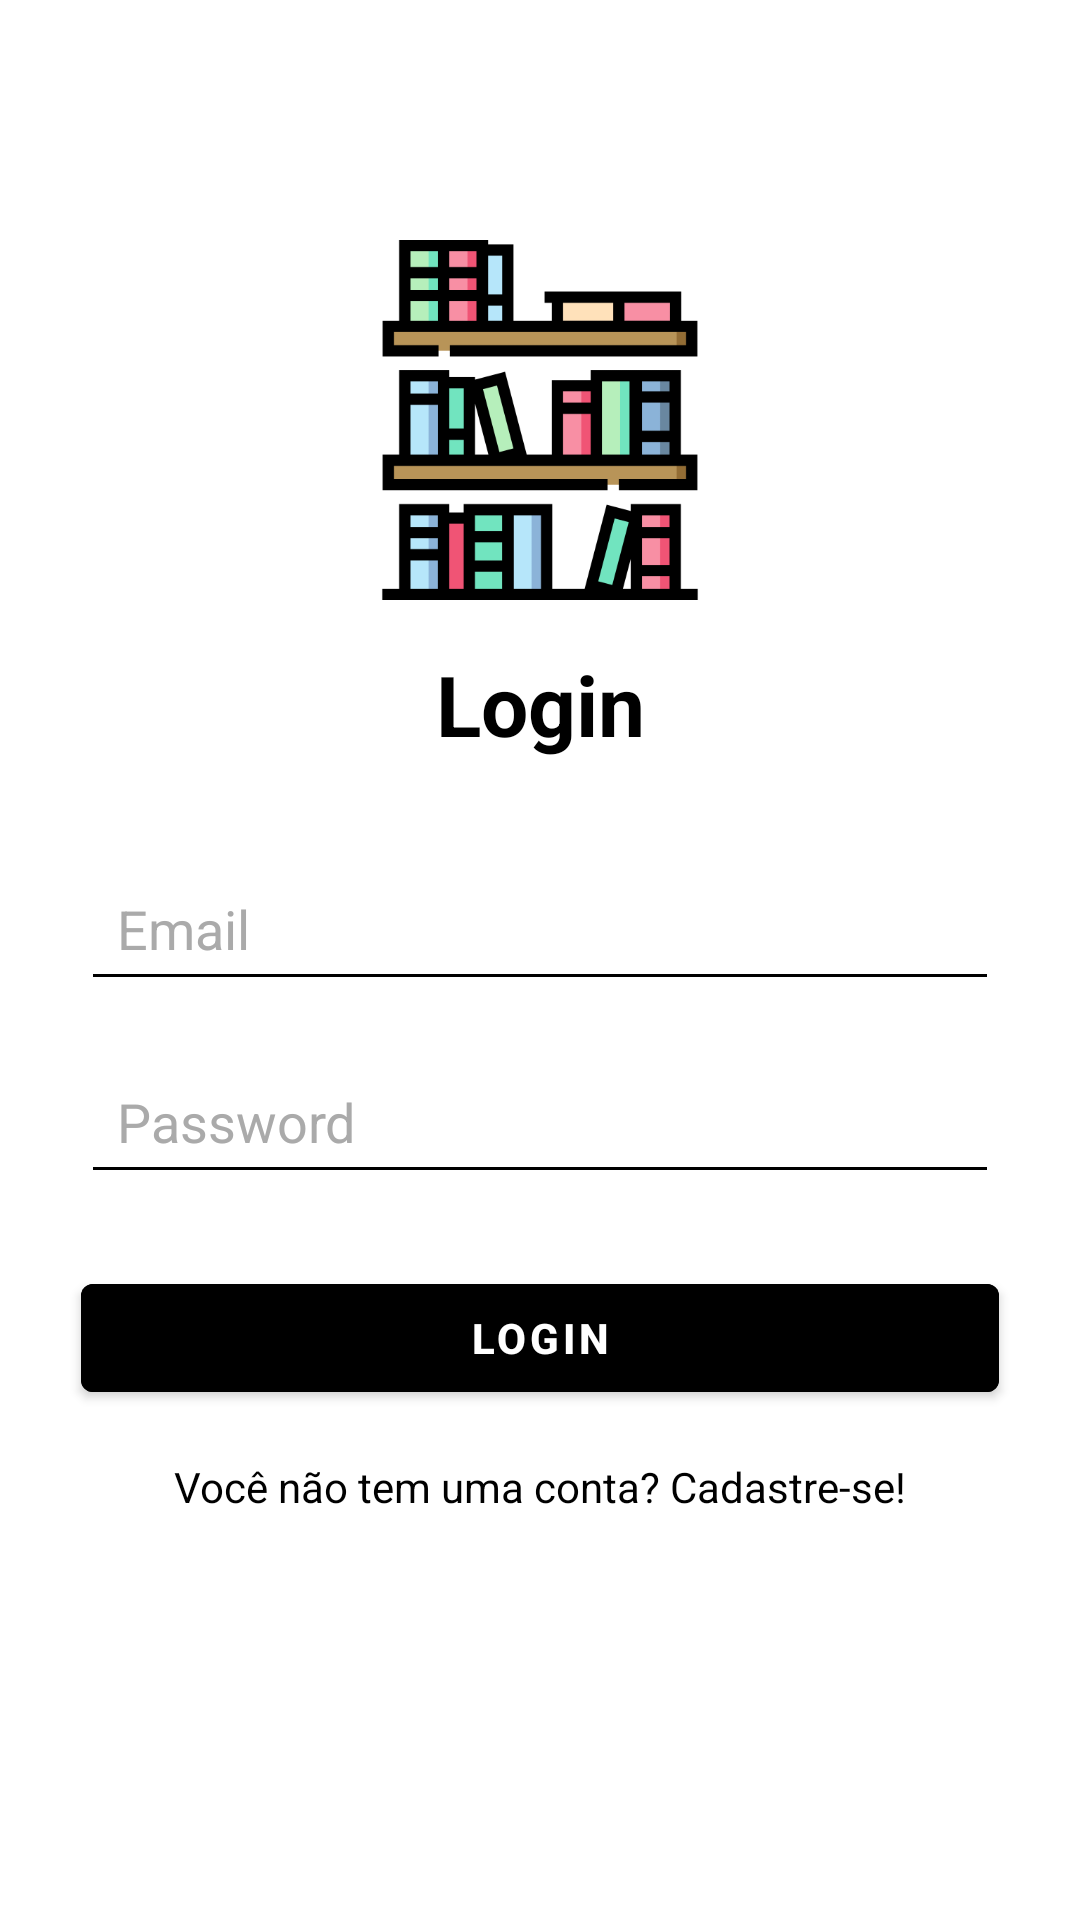

Where icons sit on this 1080 x 1920 app screen, as {"left": x1, "top": y1, "right": x2, "bottom": y2}:
book: {"left": 382, "top": 240, "right": 698, "bottom": 600}
